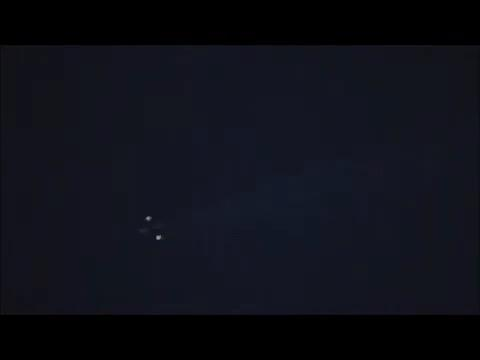Plane: (115, 205, 191, 249)
